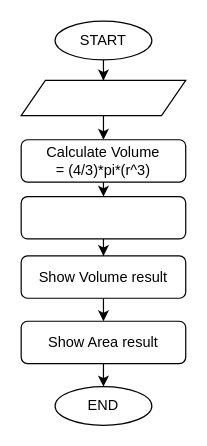
Some shapes in this 207 by 446 pixel diagram are drawn without their labels. Each missing label, with the box of its shape:
Calculate Surface area: = 4*pi*r^2: (20, 195, 186, 239)
Input radius, r: (20, 79, 186, 116)
